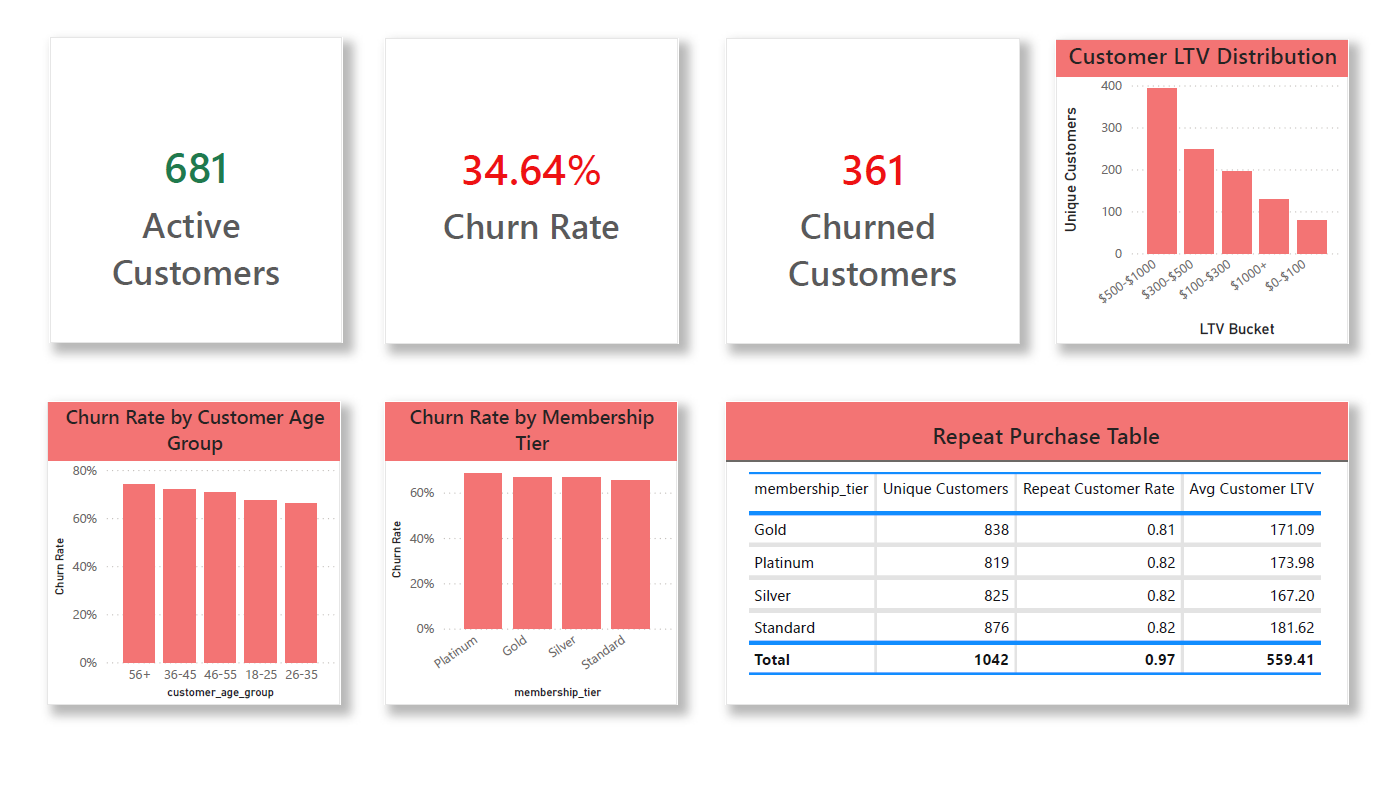

Layout of this report page (visuals, bound fields, positions):
{"tool":"powerbi","page":{"name":"Customer Churn","canvas":[1280,720],"ordinal":1},"visuals":[{"type":"card","fields":{"Values":["dispensary_data_cleaned.Churn Rate"]},"box":[342.2,14.7,278.3,289.8],"z":0},{"type":"card","fields":{"Values":["dispensary_data_cleaned.Active Customers"]},"box":[24,14,278,290],"z":1000},{"type":"card","fields":{"Values":["dispensary_data_cleaned.Churned Customers"]},"box":[666.4,14.7,278.3,289.8],"z":2000},{"type":"clusteredColumnChart","title":"Churn Rate by Customer Age Group","fields":{"Category":["dispensary_data_cleaned.customer_age_group"],"Y":["dispensary_data_cleaned.Churn Rate"]},"box":[22,360,278,288],"z":3000},{"type":"clusteredColumnChart","title":"Churn Rate by Membership Tier","fields":{"Y":["dispensary_data_cleaned.Churn Rate"],"Category":["dispensary_data_cleaned.membership_tier"]},"box":[342,360,278,288],"z":4000},{"type":"clusteredColumnChart","title":"Customer LTV Distribution","fields":{"Category":["dispensary_data_cleaned.LTV Bucket"],"Y":["dispensary_data_cleaned.Unique Customers"]},"box":[979.1,16.4,278.3,288.2],"z":5000},{"type":"tableEx","title":"Repeat Purchase Table","fields":{"Values":["dispensary_data_cleaned.membership_tier","dispensary_data_cleaned.Unique Customers","dispensary_data_cleaned.Repeat Customer Rate","dispensary_data_cleaned.Avg Customer LTV"]},"box":[666.4,360.2,591,288.2],"z":6000}]}

Visuals, with their boxes in screenshot pixels (x1, y1, x2, y2), scaled from the page's 1280x720 canvas onto the 1382x791 screenshot:
card - dispensary_data_cleaned.Churn Rate: locate(369, 16, 670, 335)
card - dispensary_data_cleaned.Active Customers: locate(26, 15, 326, 334)
card - dispensary_data_cleaned.Churned Customers: locate(720, 16, 1020, 335)
"Churn Rate by Customer Age Group" clusteredColumnChart: locate(24, 396, 324, 712)
"Churn Rate by Membership Tier" clusteredColumnChart: locate(369, 396, 669, 712)
"Customer LTV Distribution" clusteredColumnChart: locate(1057, 18, 1358, 335)
"Repeat Purchase Table" tableEx: locate(720, 396, 1358, 712)
